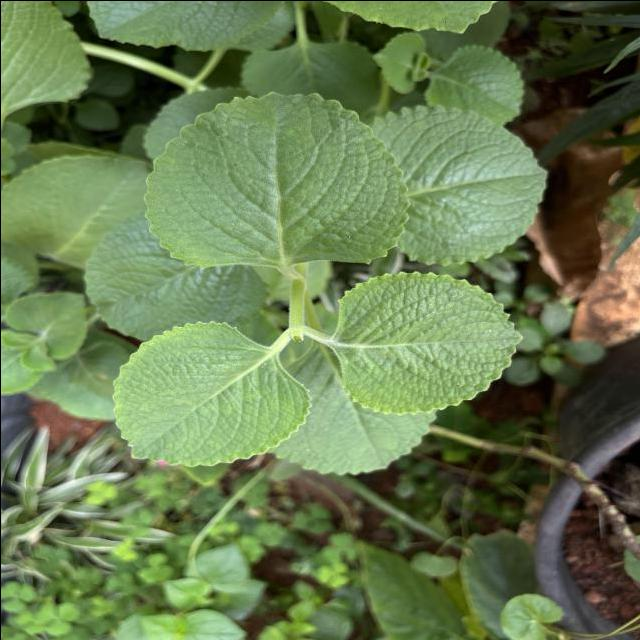Plectranthus barbatus: (140, 89, 410, 272), (110, 318, 312, 468), (368, 102, 550, 267), (332, 270, 524, 418), (421, 44, 525, 124)
